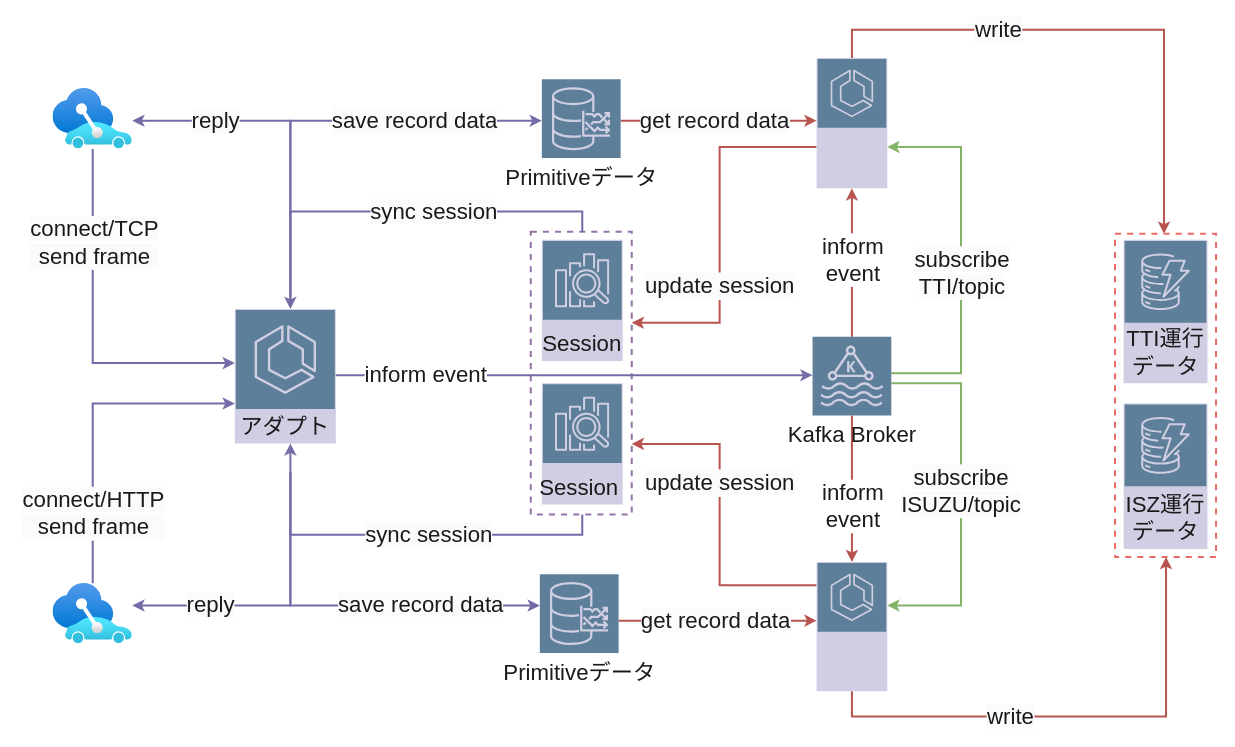
Some shapes in this 1235 by 747 pixel diagram are drawn without their labels. Each missing label, with the box of its shape:
DTS-D1/D2/G1: (53, 88, 132, 148)
ISUZU: (53, 583, 132, 643)
ISZ系コア: (816, 561, 887, 691)
TTI系コア: (816, 57, 887, 188)
